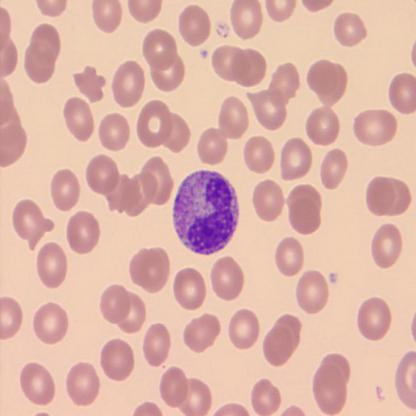Segmented neutrophil: (170, 168, 241, 257)
